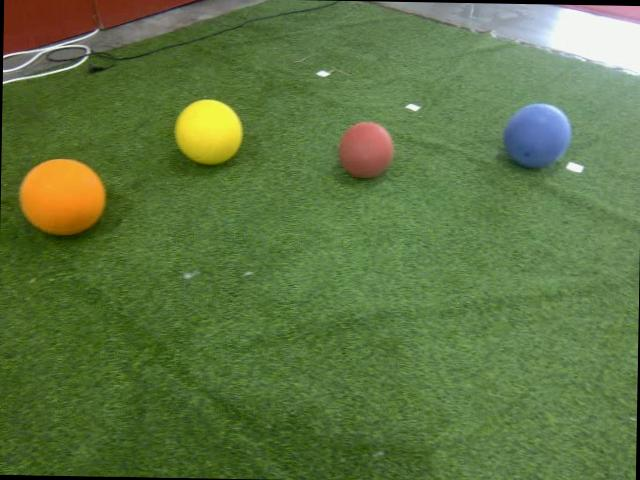blue_ball: (502, 102, 572, 169)
orange_ball: (16, 157, 108, 237)
red_ball: (338, 120, 393, 178)
yellow_ball: (172, 97, 244, 165)
